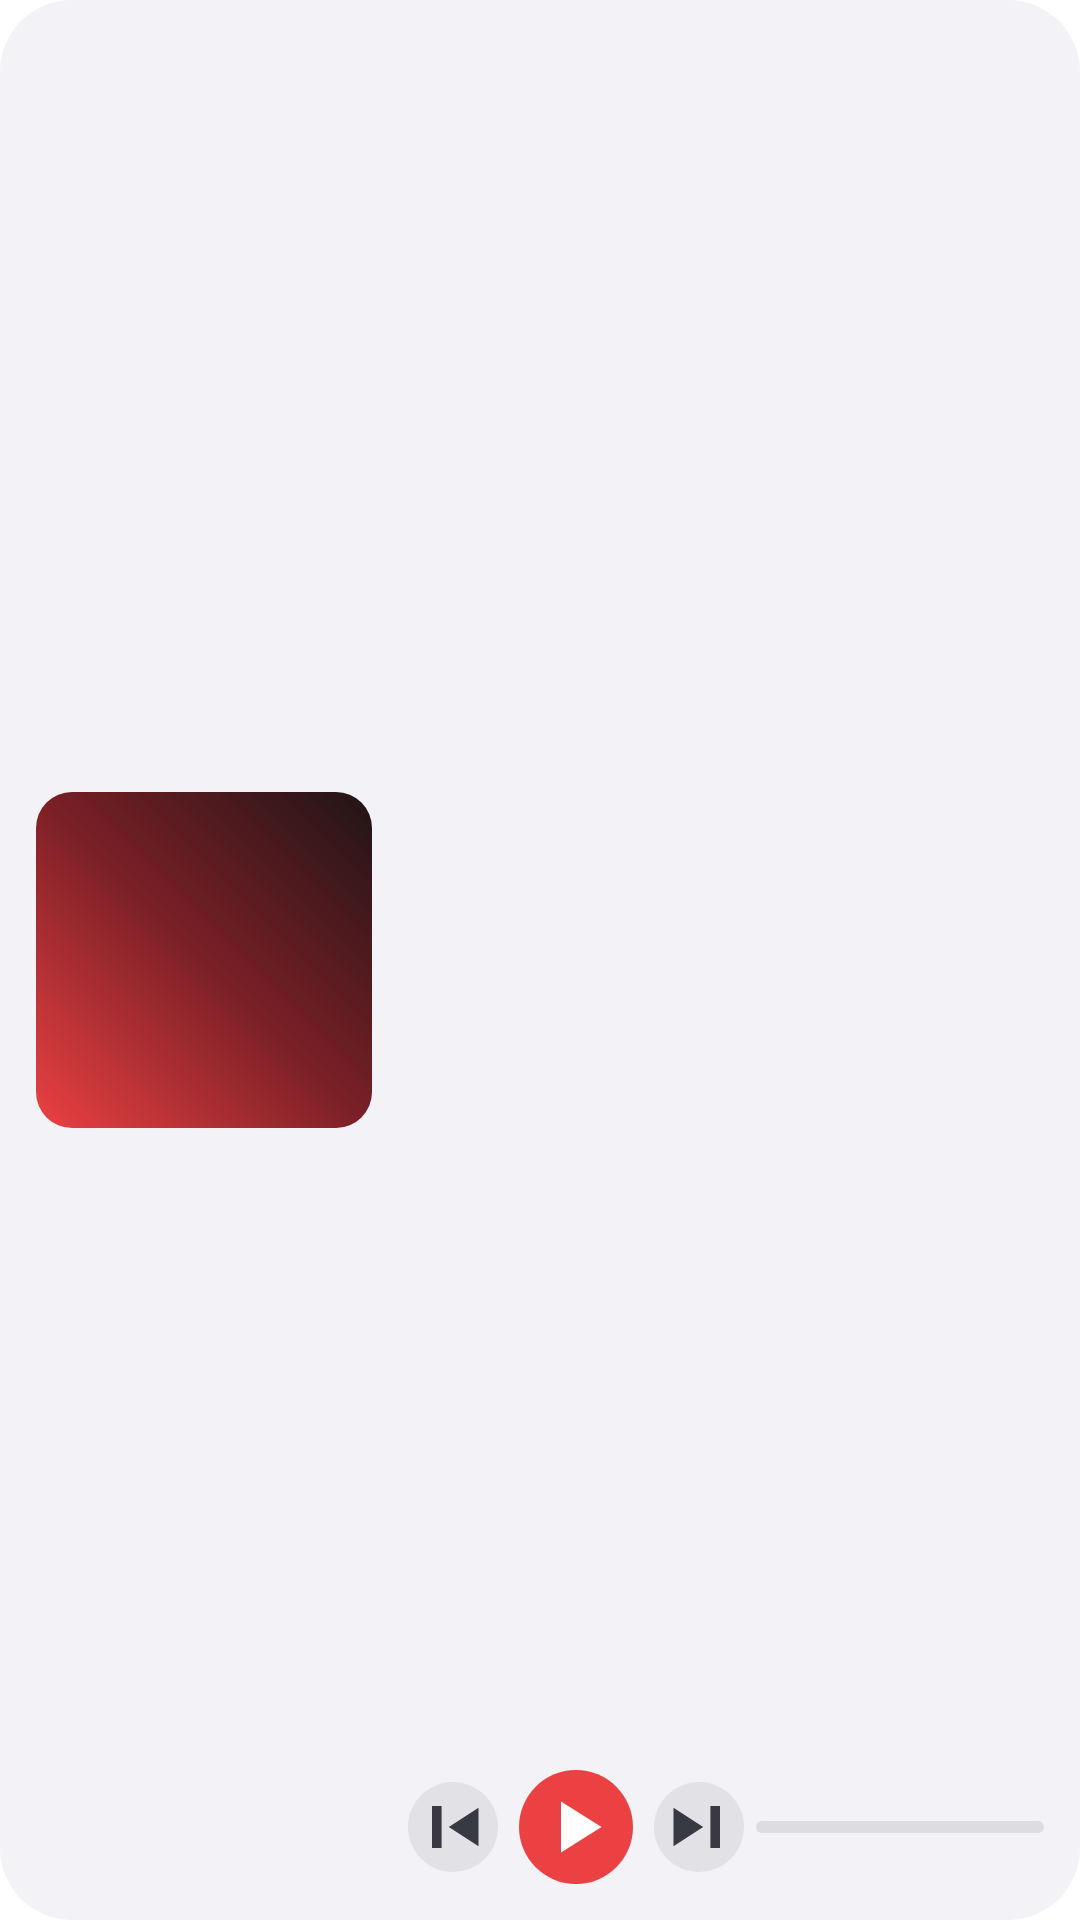

Named icons in this screenshot (1080x1920) and their bounding boxes, bbox=(x1, y1, x2, y2):
play: bbox=(519, 1770, 633, 1884)
skip next: bbox=(673, 1806, 720, 1848)
skip previous: bbox=(432, 1806, 479, 1848)
